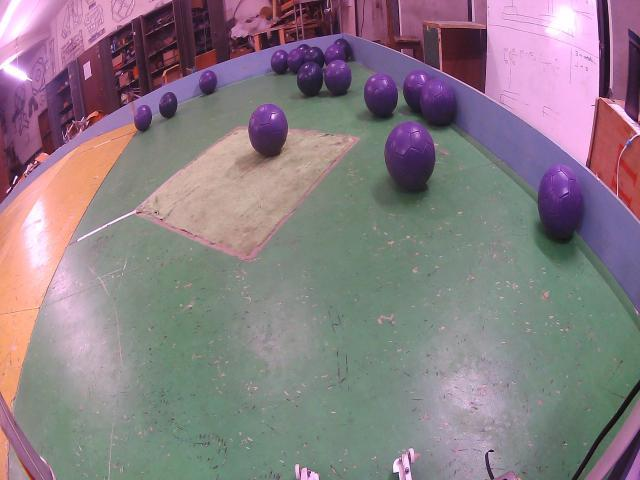jambhalya: (385, 122, 435, 190), (538, 165, 584, 238), (248, 103, 288, 157), (420, 78, 455, 126), (364, 73, 398, 117), (402, 70, 430, 112), (324, 60, 351, 95), (134, 105, 152, 132), (199, 70, 218, 95), (288, 48, 305, 73), (271, 50, 288, 75), (324, 45, 346, 64)
kaalyya: (298, 62, 324, 97), (159, 92, 178, 118), (305, 47, 325, 68), (336, 38, 352, 59), (298, 43, 309, 51)
